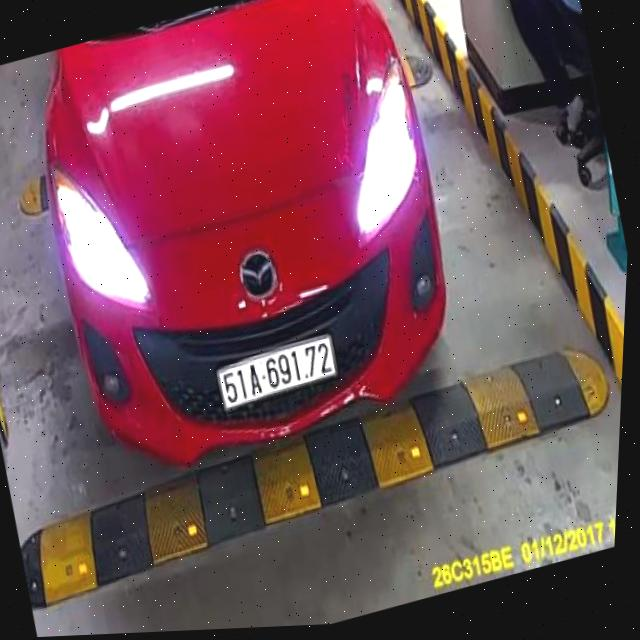car: (0, 0, 496, 509)
plate: (204, 326, 345, 416)
